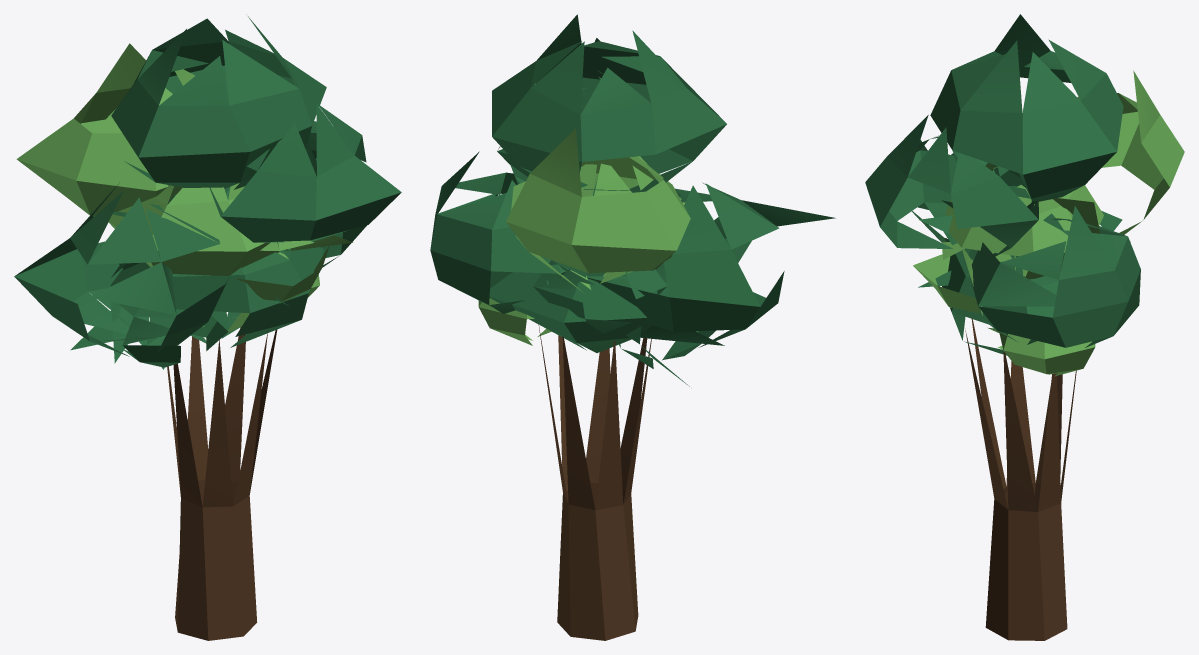
Rendered from tree_e_lod1.glb.
3 renders of one model, left to right at view 1: azimuth 30°, elevation 25°; view 2: azimuth 150°, elevation 25°; view 3: azimuth 270°, elevation 25°, orthographic.
Parts seen in each view (by area): view 1: TREE_E; view 2: TREE_E; view 3: TREE_E.
Part boxes in pixels (x1=…): TREE_E: x1=14, y1=14, x2=401, y2=640; TREE_E: x1=430, y1=14, x2=835, y2=640; TREE_E: x1=865, y1=14, x2=1184, y2=640.
Size of the model in its own units: 4.37 by 7.55 by 3.66.
